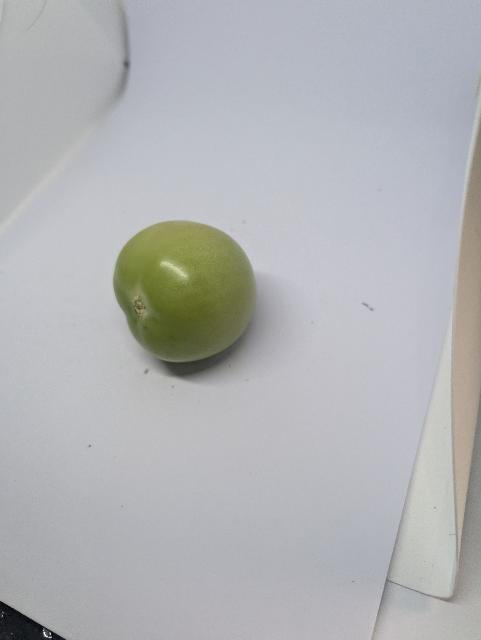green: (112, 218, 262, 365)
